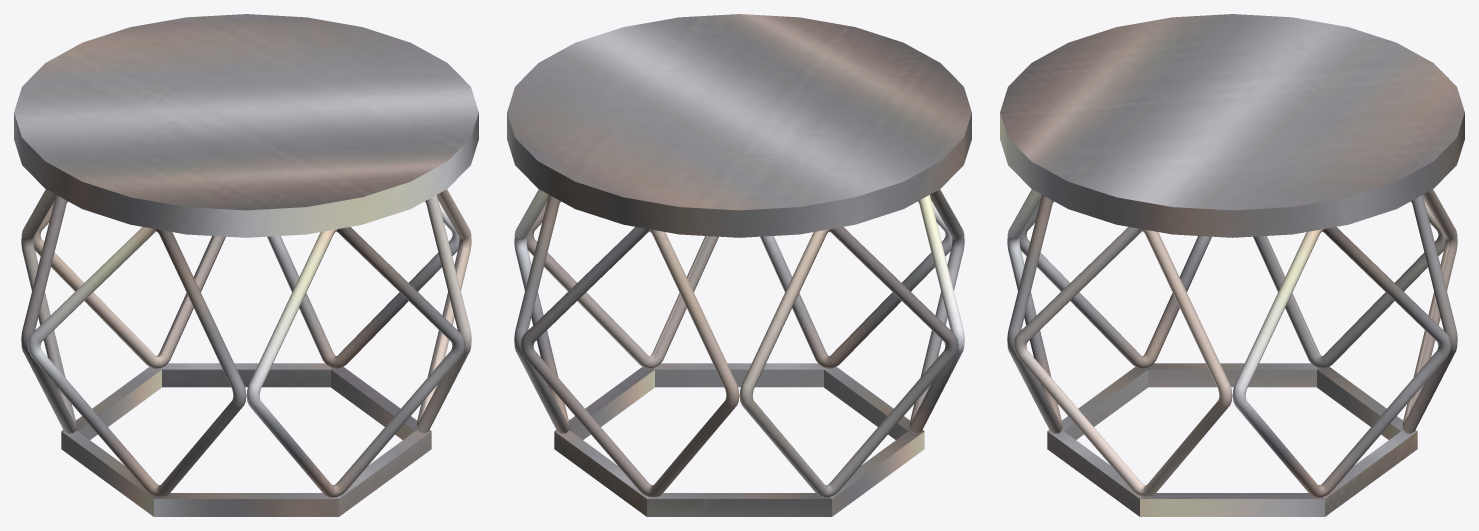
File: center_display.glb
The picture shows the model from 3 angles, left to right: view 1: azimuth 30°, elevation 25°; view 2: azimuth 150°, elevation 25°; view 3: azimuth 270°, elevation 25°; orthographic projection.
Parts seen in each view (by area): view 1: coffee_table_02; view 2: coffee_table_02; view 3: coffee_table_02.
Part boxes in pixels (x1=…): coffee_table_02: x1=14, y1=14, x2=478, y2=516; coffee_table_02: x1=507, y1=14, x2=971, y2=516; coffee_table_02: x1=1000, y1=14, x2=1464, y2=516.
Size of the model in its own units: 2.34 by 1.7 by 2.13.
Materials: 1 (1 with a texture image).
